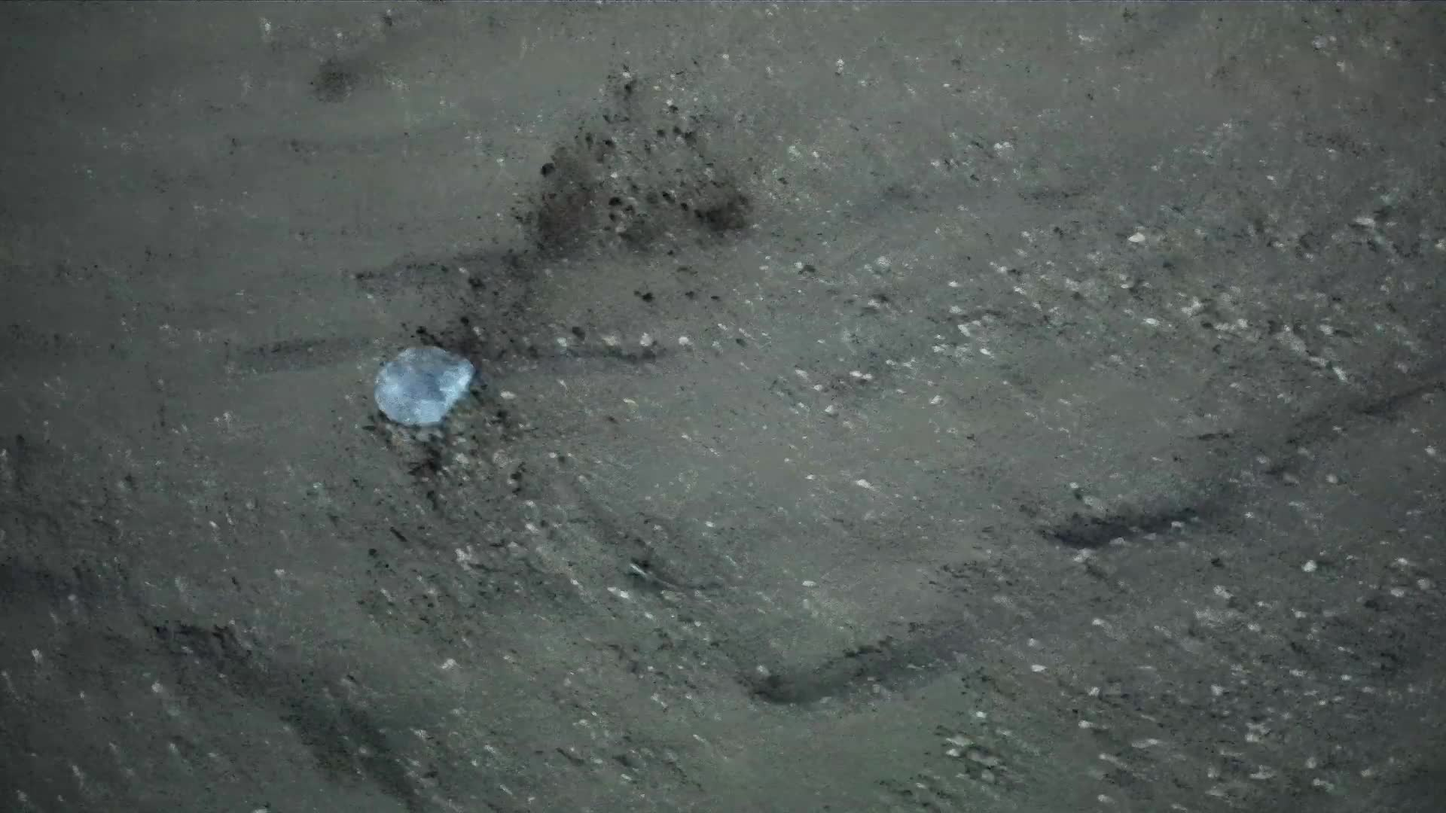Target: (368, 335, 477, 431)
